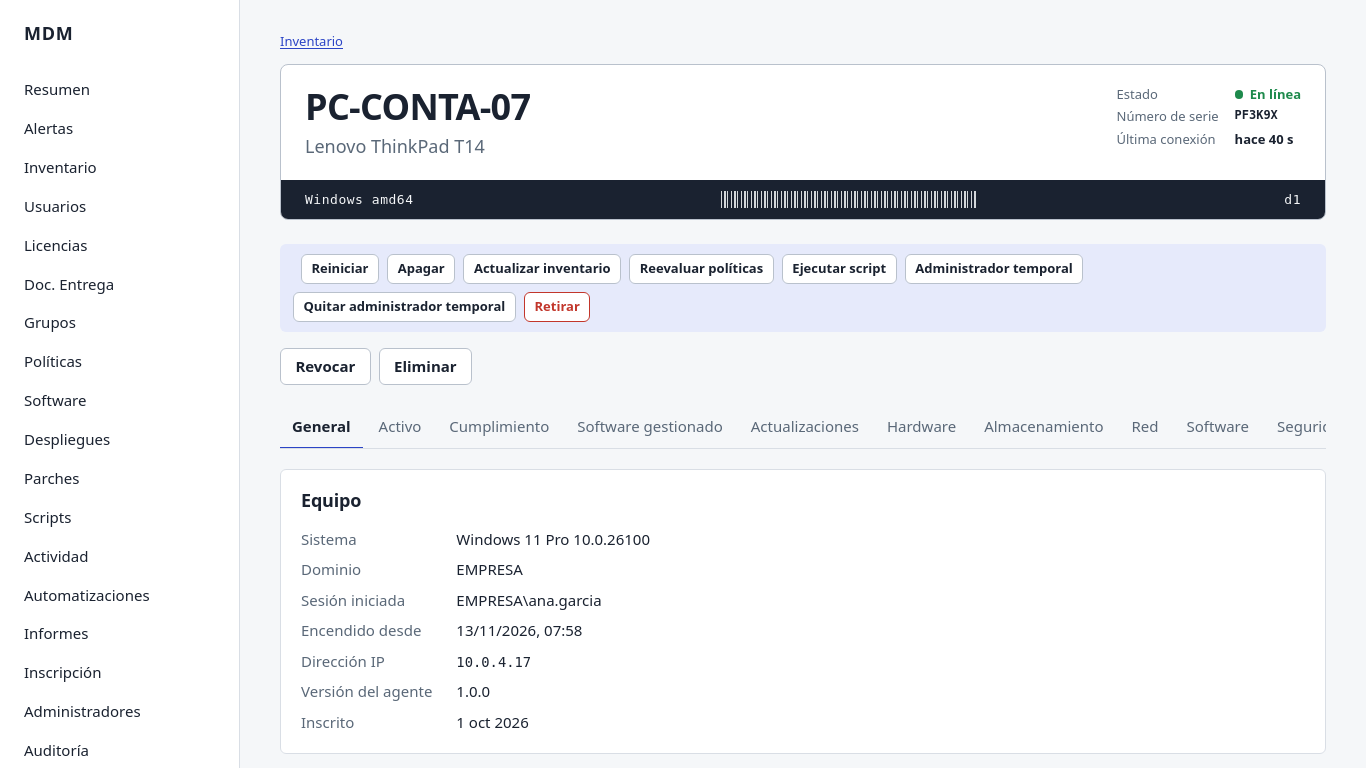
Test: Ficha de dispositivo › una sección no disponible muestra el aviso en lugar de datos vacíos
Click the tab "Seguridad".
click(1313, 427)  # box x1=1265 y1=405 x2=1361 y2=449
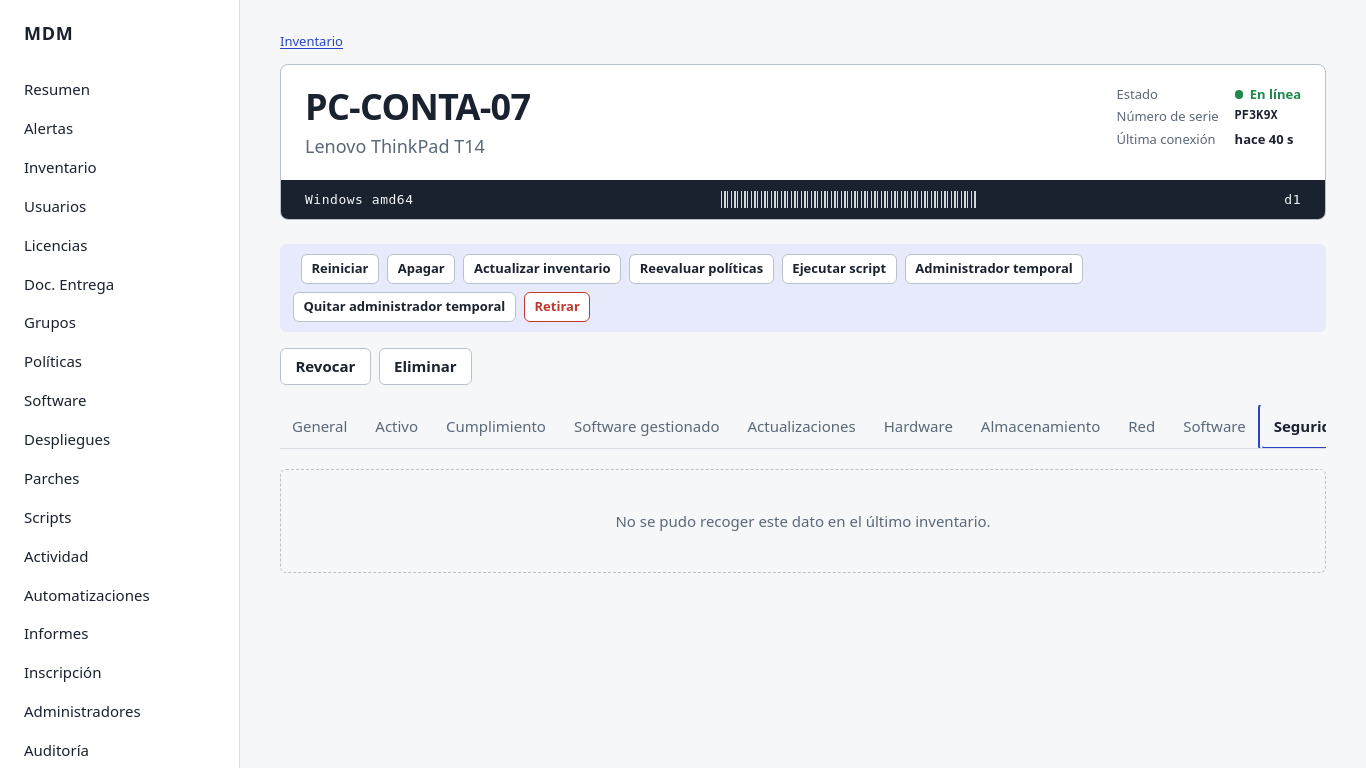
Now the text "No se pudo recoger este dato en el último inventario." is shown, box x1=280 y1=469 x2=1326 y2=573
